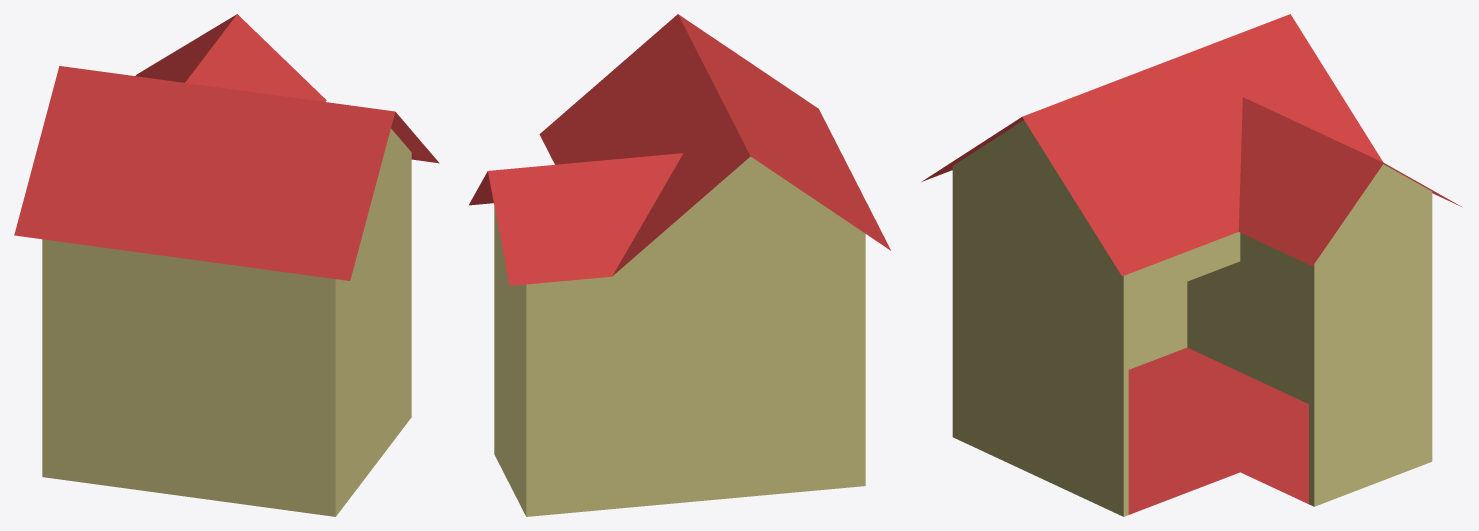
3 views of the same model, side by side, from view 1: azimuth 30°, elevation 25°; view 2: azimuth 150°, elevation 25°; view 3: azimuth 270°, elevation 25° (orthographic). The views are drawn at different scales.
Parts seen in each view (by area): view 1: group_6, group_3, group_8, group_5; view 2: group_6, group_3, group_10, group_8, group_5, group_9; view 3: group_6, group_3, group_10, group_7, group_8, group_11, group_9, group_5.
Boxes of the visible parts, left/top/right/bottom form: group_6: left=42, top=128, right=411, bottom=516; group_3: left=14, top=66, right=438, bottom=280; group_8: left=135, top=14, right=326, bottom=101; group_5: left=16, top=67, right=438, bottom=280; group_6: left=607, top=156, right=865, bottom=509; group_3: left=539, top=14, right=890, bottom=275; group_10: left=494, top=206, right=607, bottom=516; group_8: left=469, top=153, right=683, bottom=285; group_5: left=542, top=17, right=889, bottom=249; group_9: left=473, top=172, right=626, bottom=283; group_6: left=952, top=120, right=1308, bottom=516; group_3: left=921, top=14, right=1382, bottom=276; group_10: left=1255, top=164, right=1432, bottom=506; group_7: left=1128, top=347, right=1308, bottom=514; group_8: left=1238, top=97, right=1462, bottom=265; group_11: left=1256, top=459, right=1308, bottom=504; group_9: left=1249, top=166, right=1454, bottom=265; group_5: left=929, top=119, right=1123, bottom=272.
Size of the model in its own units: 15.27 by 17.84 by 13.29.
